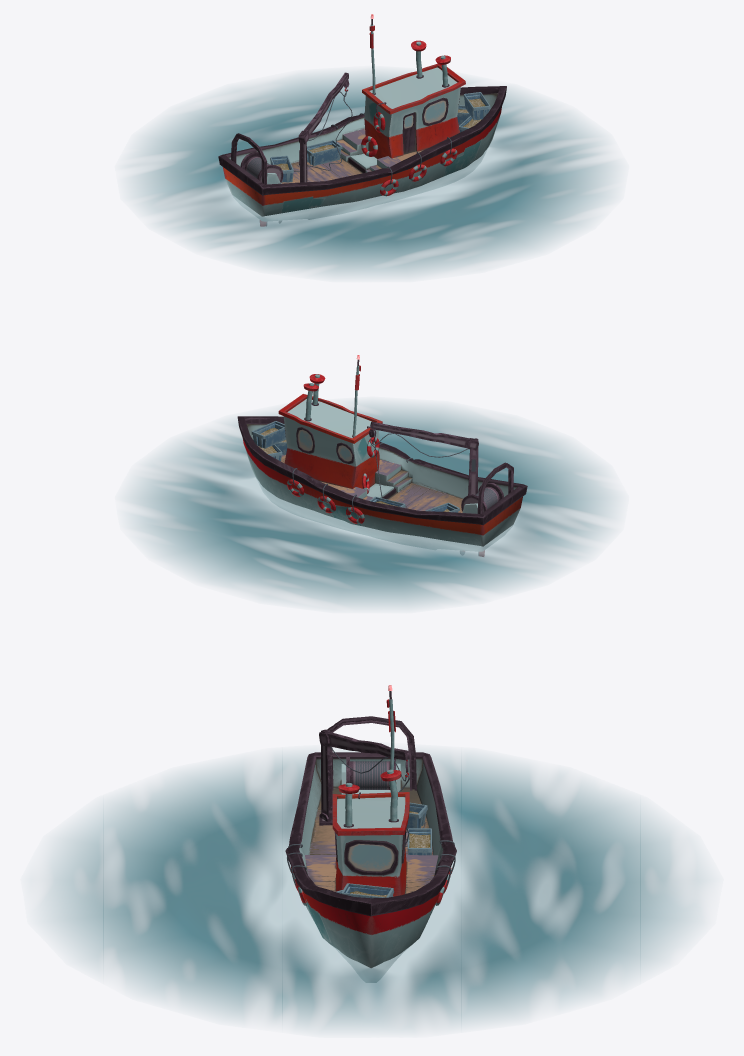
The model's file is fishing_boat.glb.
3 renders of one model, top to bottom at view 1: azimuth 30°, elevation 25°; view 2: azimuth 150°, elevation 25°; view 3: azimuth 270°, elevation 25°, orthographic. The views are drawn at different scales.
Visible parts, largest first — view 1: Plane002, Boat_LP, Box037, Box040_Fish_0; view 2: Plane002, Boat_LP, Box037, Box040_Fish_0; view 3: Plane002, Boat_LP, Box037, Box040_Fish_0.
Boxes of the visible parts, x1,y1,x2,y2 form: Plane002: [132, 73, 612, 275]; Boat_LP: [218, 63, 506, 220]; Box037: [231, 14, 457, 226]; Box040_Fish_0: [270, 92, 490, 182]; Plane002: [132, 404, 612, 606]; Boat_LP: [237, 394, 527, 551]; Box037: [287, 355, 513, 556]; Box040_Fish_0: [251, 421, 459, 512]; Plane002: [44, 754, 700, 1027]; Boat_LP: [285, 752, 456, 982]; Box037: [287, 685, 455, 905]; Box040_Fish_0: [336, 802, 431, 898].
Size of the model in its own units: 1.3 by 0.4937 by 1.3.
4 materials, 4 textured.
